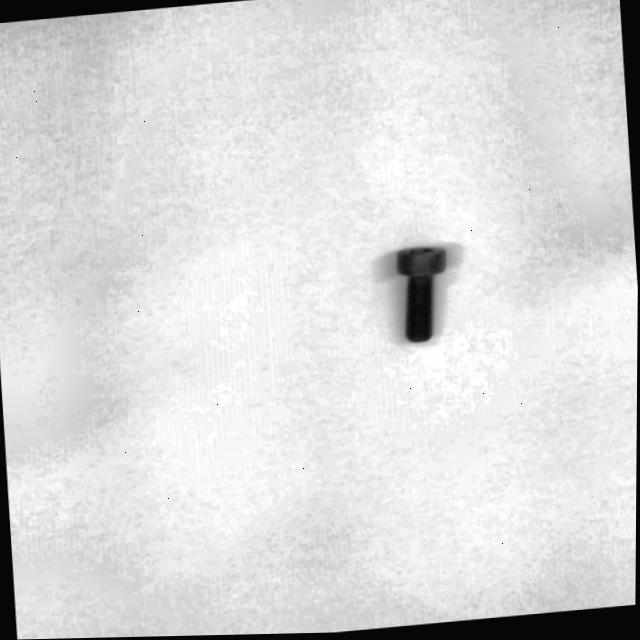Socket head cap screw: (393, 245, 456, 347)
